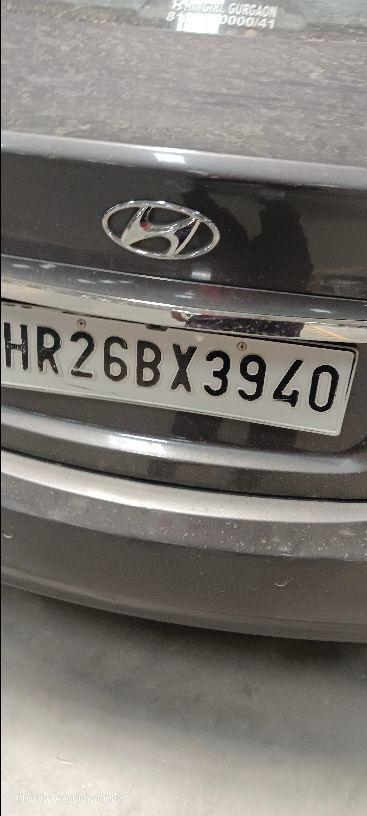license_plate: (1, 294, 360, 439)
